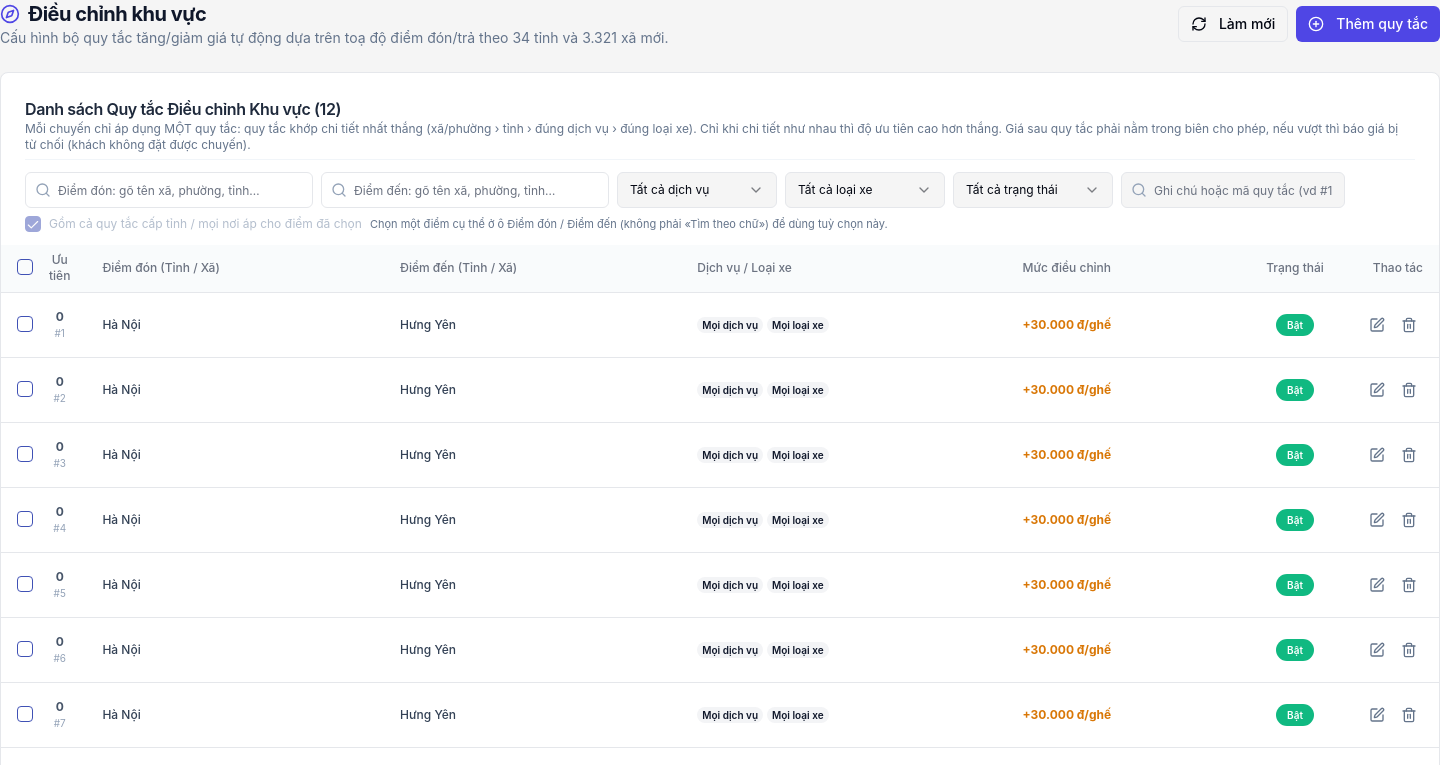
it: PricingMacroManager — danh sách › danh sách trong hộp xác nhận rút gọn sau 8 tên, ghi số còn lại; không có cảnh báo ẩn khi mọi dòng đang hiện
This screenshot has width=1440, height=765.
Expected: the row with test id "rule-row-1" is shown, [1, 292, 1439, 358]
Click the checkbox named "Chọn tất cả quy tắc ở trang này": (25, 267) [17, 259, 33, 275]
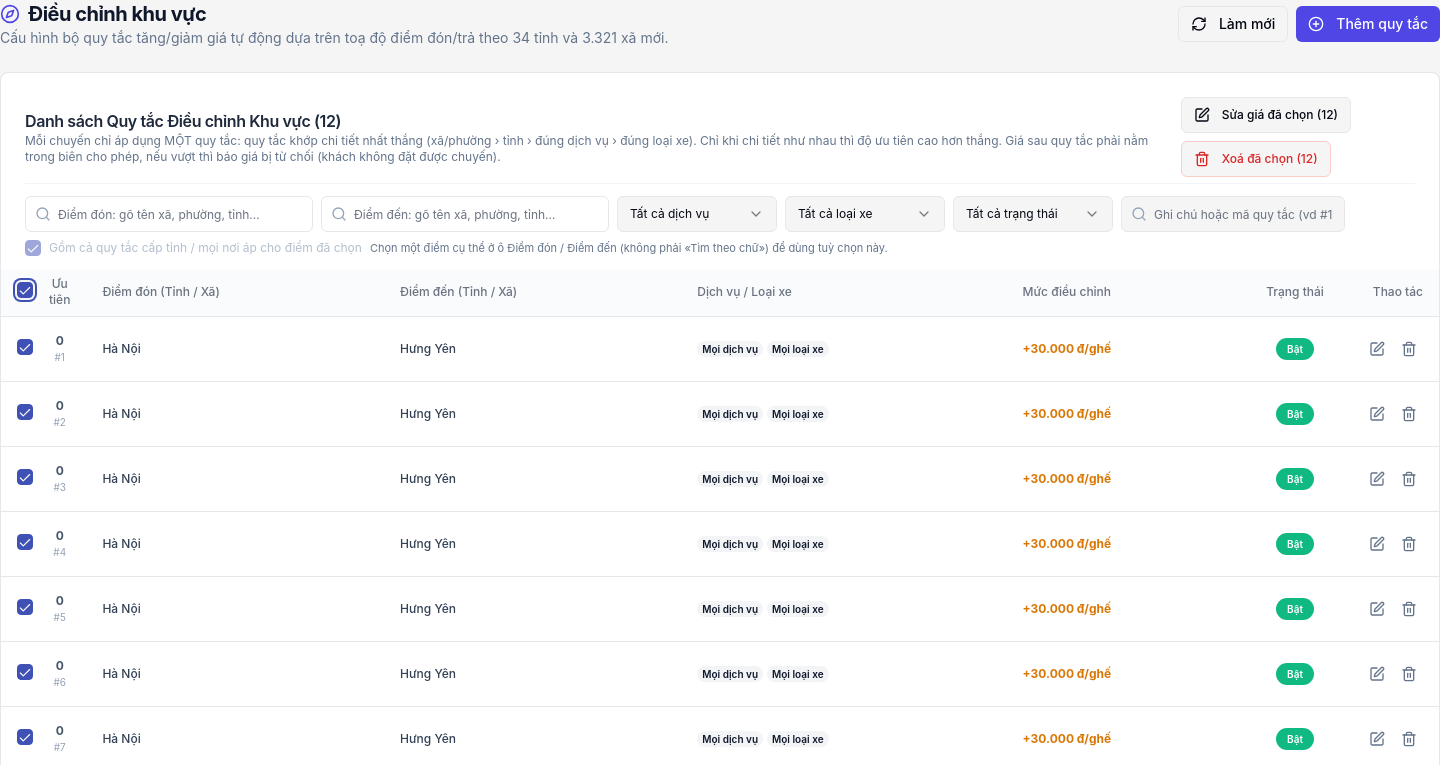
Click the button "Xoá đã chọn (12)": (1256, 159) [1181, 141, 1331, 177]
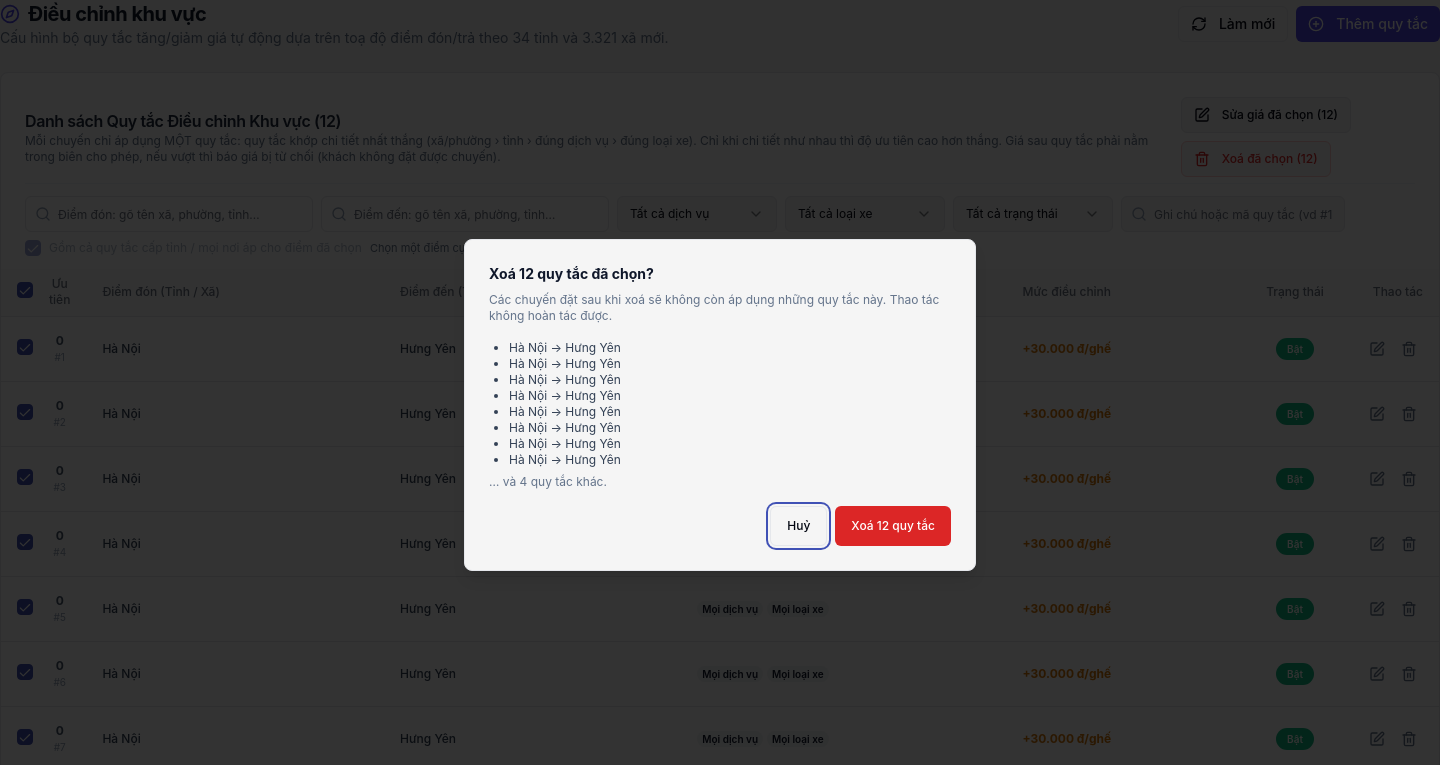
Expected: the number of list items is 8
Expected: the element with test id "bulk-delete-list" shows "… và 4 quy tắc khác.", [489, 340, 621, 489]
